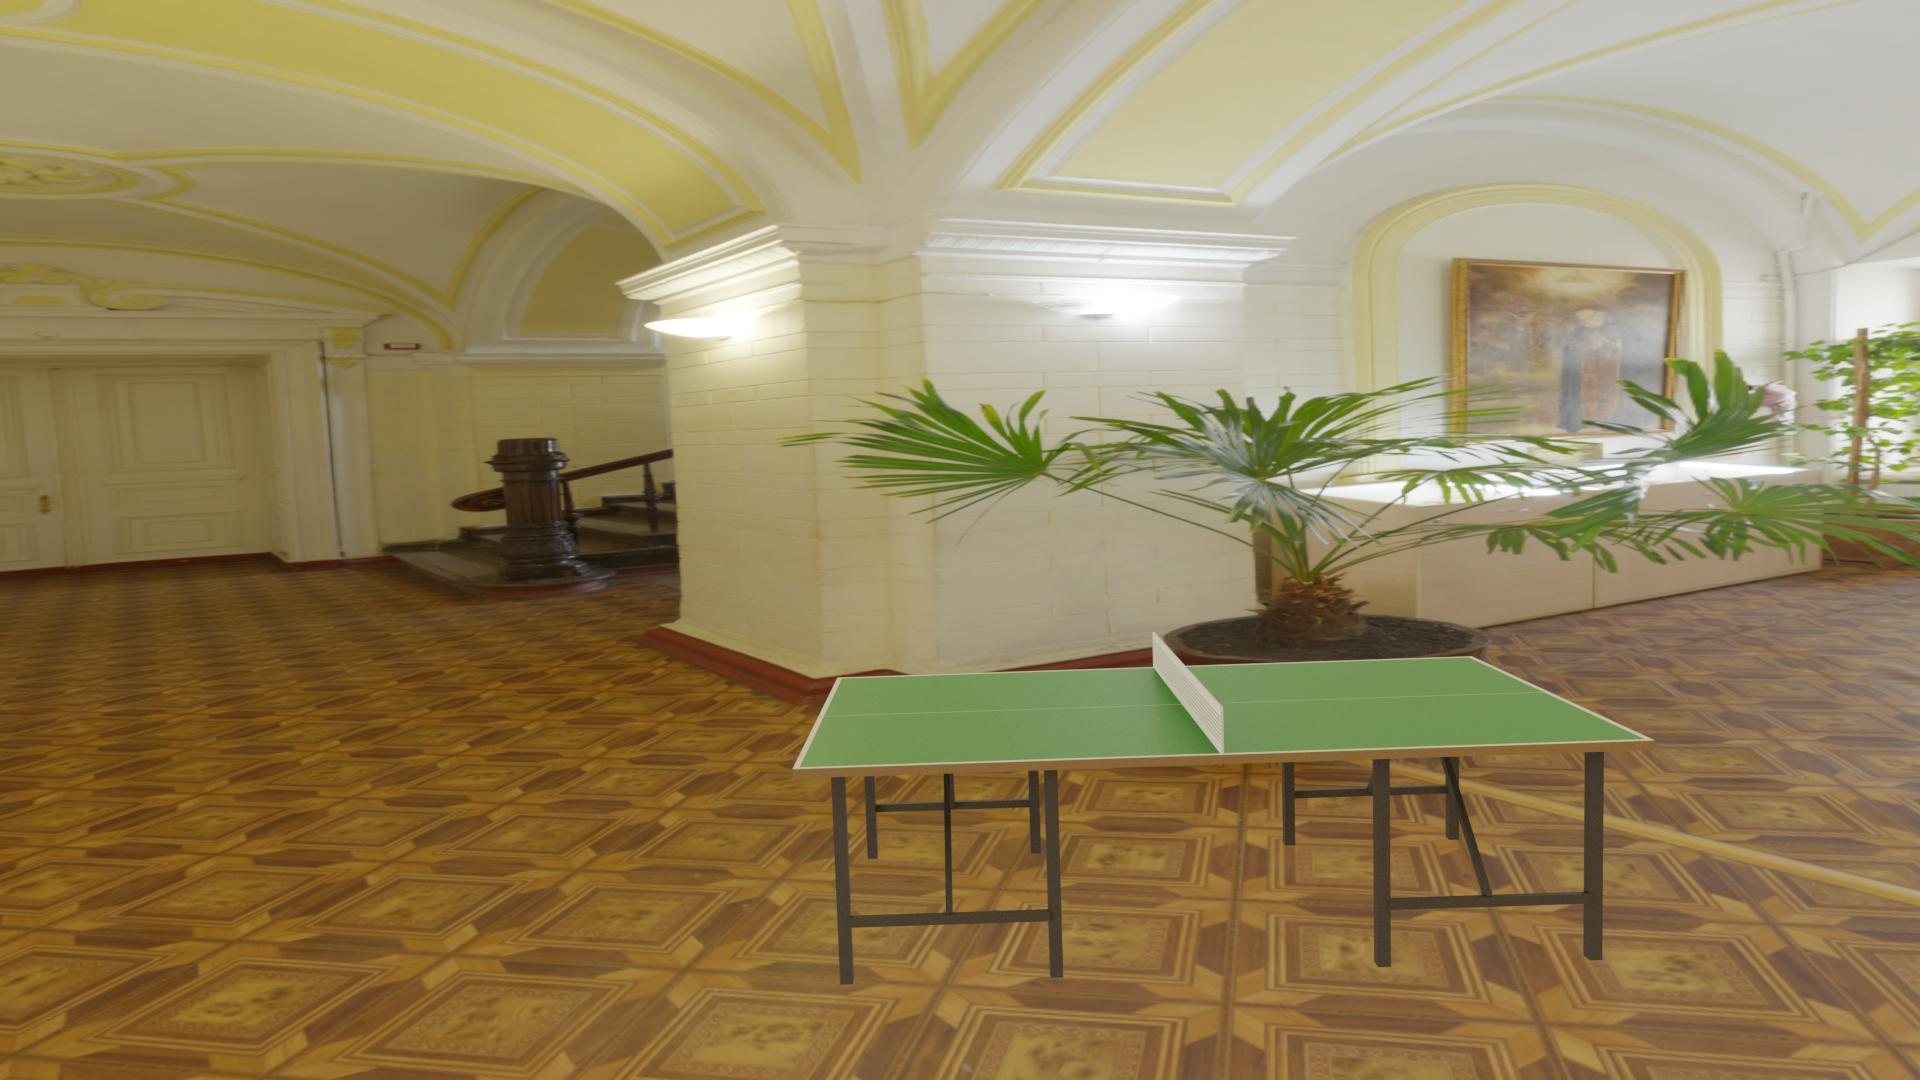table: (799, 657, 1646, 767)
